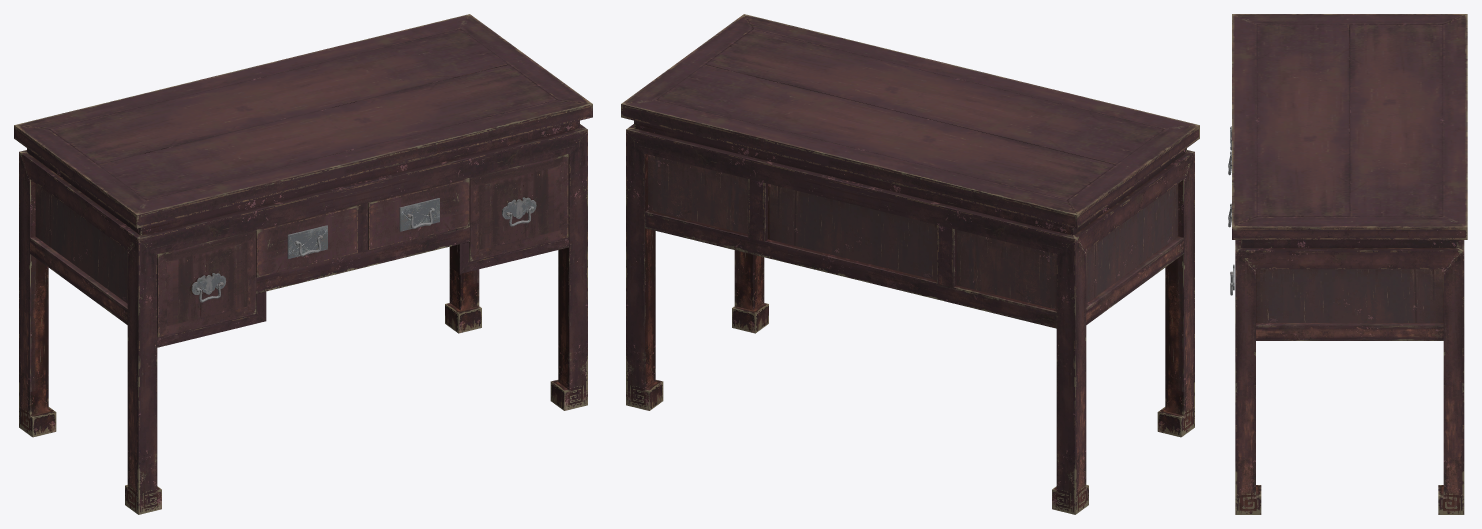
File: RedZhuo.fbx
3 views of the same model, side by side, from view 1: azimuth 30°, elevation 25°; view 2: azimuth 150°, elevation 25°; view 3: azimuth 270°, elevation 25° (orthographic). The views are drawn at different scales.
Visible parts, largest first — view 1: 3D_RedZhuo.mo; view 2: 3D_RedZhuo.mo; view 3: 3D_RedZhuo.mo.
Boxes of the visible parts, x1,y1,x2,y2 form: 3D_RedZhuo.mo: [14, 14, 592, 514]; 3D_RedZhuo.mo: [621, 14, 1199, 514]; 3D_RedZhuo.mo: [1228, 14, 1467, 514].
Bounding box in the file's own units: 70.2 × 44.43 × 33.32.
Materials: 1 (1 with a texture image).
